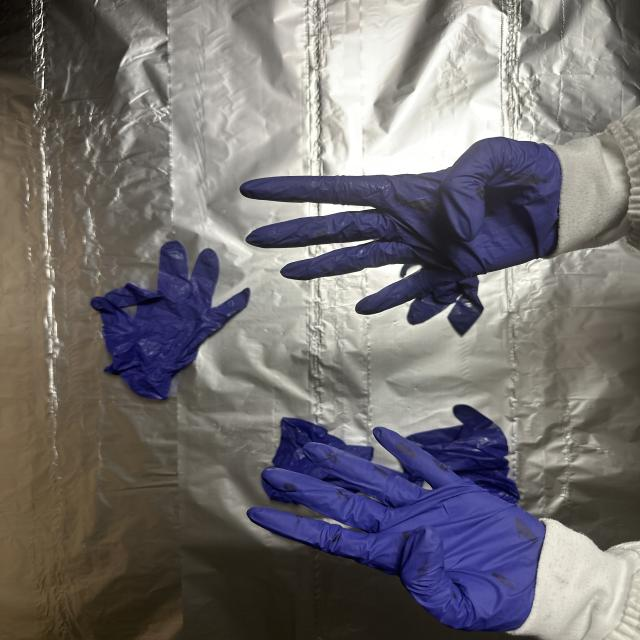gloves_contaminated: (248, 428, 544, 630), (241, 138, 560, 314)
